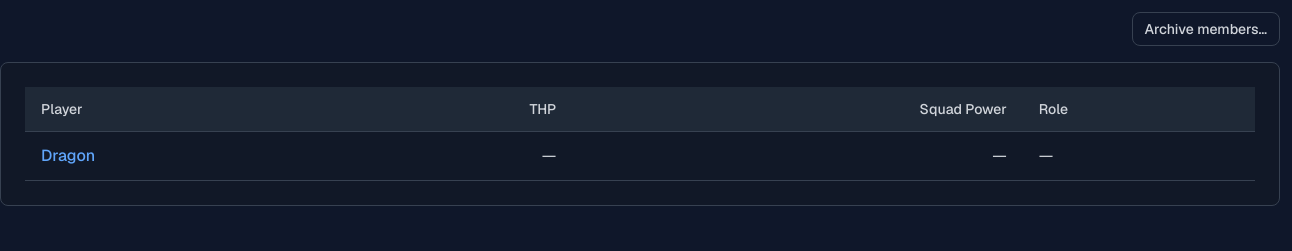
Test case: MembersTable — entering and exiting selection mode › Cancel exits selection mode entirely — checkboxes disappear, the entry point returns, and focus returns to it
The width and height of the screenshot is (1292, 251).
Click the button "Archive members…".
click(1206, 29)  # box 1132,12 -> 1280,46
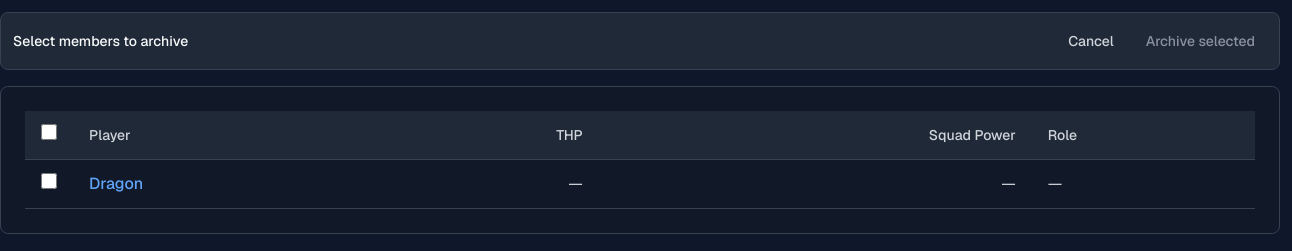
Click the checkbox named "Select Dragon".
click(49, 181)  # box 41,173 -> 57,189
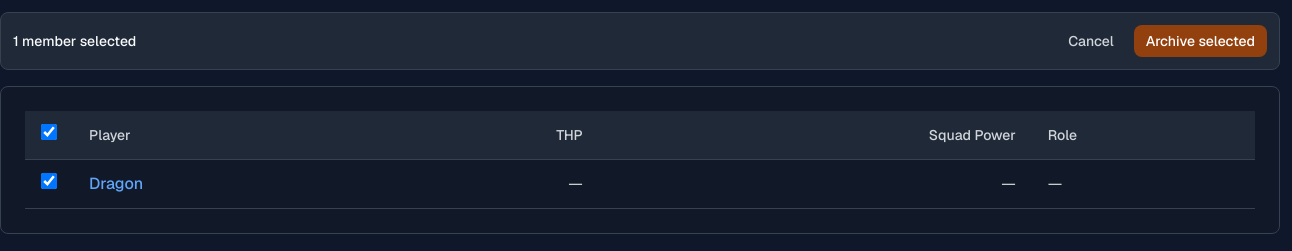
Click the button "Cancel".
click(1091, 41)  # box 1056,25 -> 1126,57
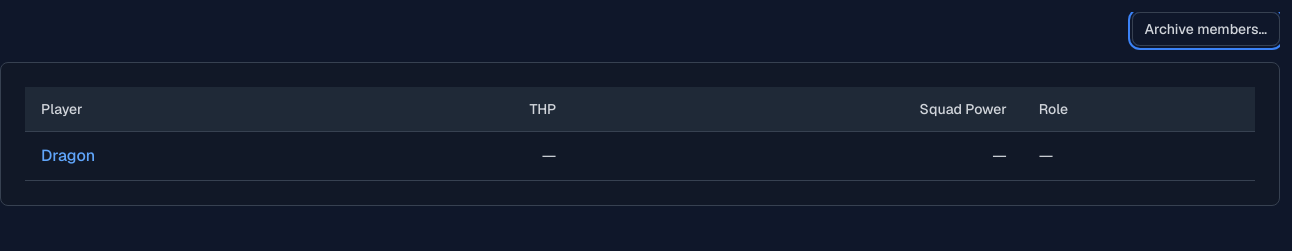
Now the text "selected" is gone
Now the button "Archive members…" is shown, box 1132,12 -> 1280,46
